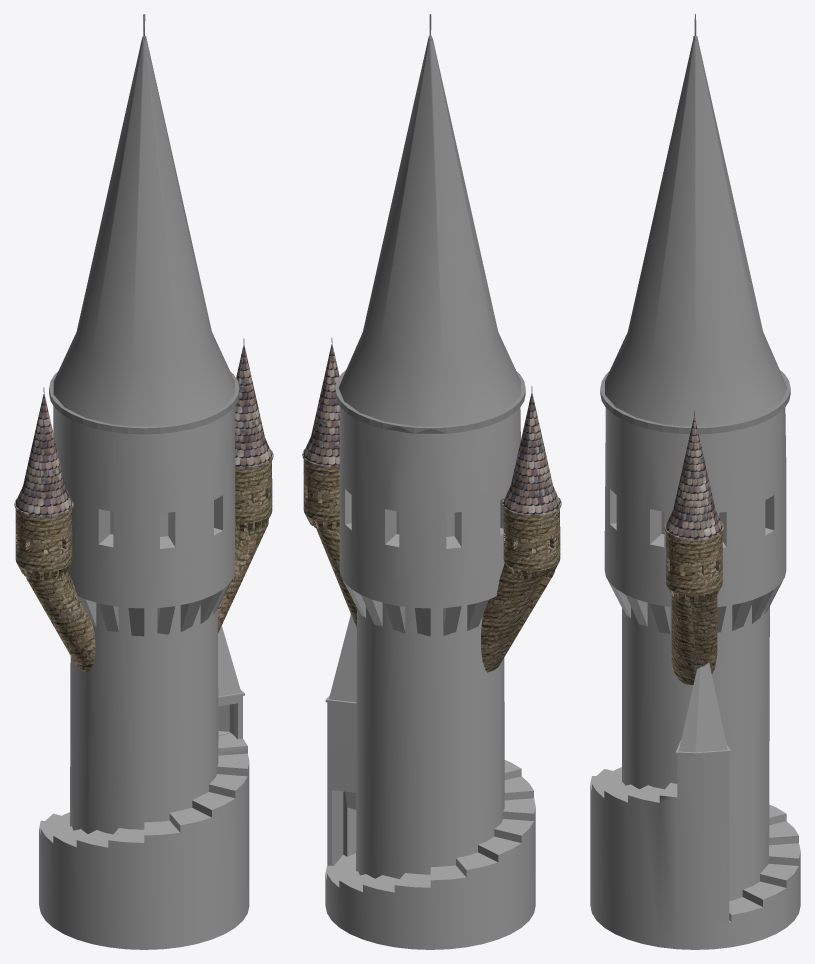
File: Castle Tower.FBX
3 views of the same model, side by side, from view 1: azimuth 30°, elevation 25°; view 2: azimuth 150°, elevation 25°; view 3: azimuth 270°, elevation 25° (orthographic).
Visible parts, largest first — view 1: Spiral Tower Front Right, Object01, attach 2, Object06, Object03, Object04, attach 1; view 2: Spiral Tower Front Right, attach 2, Object01, Object06, Object03, Object04, attach 1; view 3: Spiral Tower Front Right, Object03, attach 1, Object04.
Boxes of the visible parts, box(x1,y1,x2,y2) form: Spiral Tower Front Right: box(39, 14, 249, 949); Object01: box(14, 387, 73, 517); attach 2: box(26, 570, 95, 672); Object06: box(15, 509, 72, 580); Object03: box(235, 338, 273, 468); Object04: box(235, 461, 272, 531); attach 1: box(218, 520, 268, 632); Spiral Tower Front Right: box(325, 14, 535, 949); attach 2: box(481, 563, 554, 672); Object01: box(502, 386, 561, 516); Object06: box(503, 508, 560, 579); Object03: box(302, 338, 339, 468); Object04: box(303, 459, 339, 529); attach 1: box(316, 520, 356, 628); Spiral Tower Front Right: box(590, 14, 800, 949); Object03: box(664, 410, 723, 541); attach 1: box(671, 593, 717, 684); Object04: box(666, 532, 722, 603).
Bounding box in the file's own units: 19.78 × 67.06 × 14.34.
Materials: 4 (2 with a texture image).
